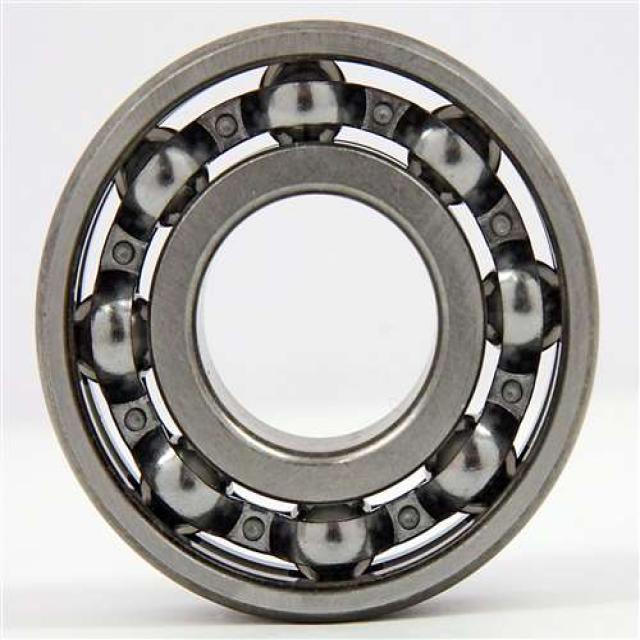Bearing: (36, 18, 600, 623)
